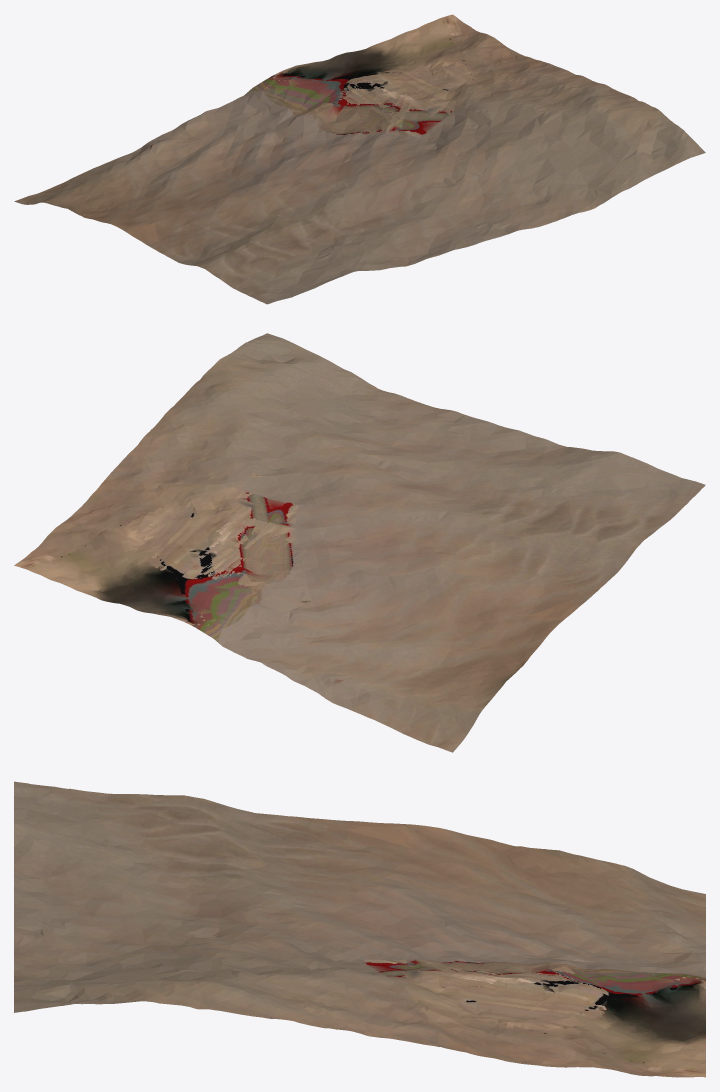
3 renders of one model, top to bottom at view 1: azimuth 30°, elevation 25°; view 2: azimuth 150°, elevation 25°; view 3: azimuth 270°, elevation 25°, orthographic. The views are drawn at different scales.
Size of the model in its own units: 1.04 by 0.3084 by 1.04.
2 materials, 2 textured.
